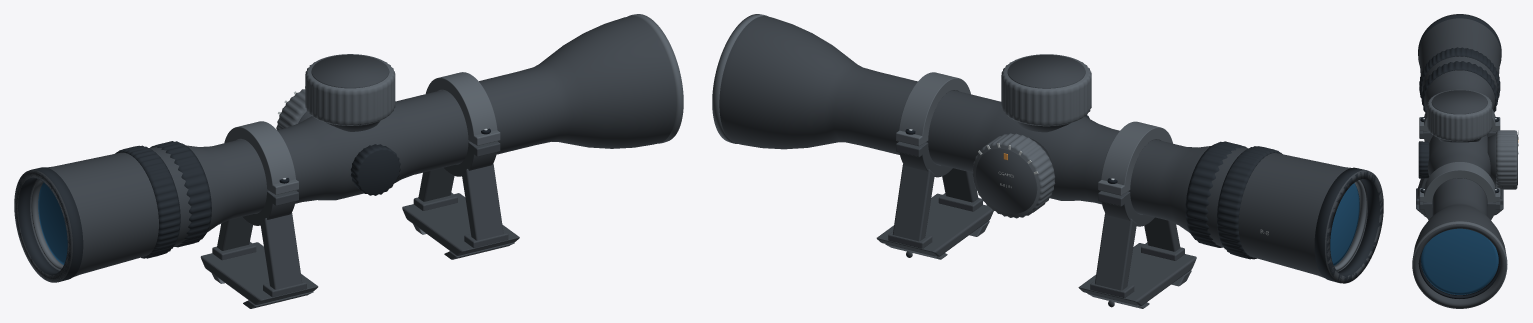
The model's file is R8_8x_Scope_A5_Rail.glb.
3 renders of one model, left to right at view 1: azimuth 30°, elevation 25°; view 2: azimuth 150°, elevation 25°; view 3: azimuth 270°, elevation 25°, orthographic. The views are drawn at different scales.
Visible parts, largest first — view 1: 01 SHELL | curved objective and long rear neck, 11 TOP CAP RIM, 05 REAR LIP | dark scallop, 25.0 LOCAL CROWN | independent seat, 25.1 LOCAL CROWN | independent seat, 09 REAR COLLAR B | fine grooves, 08 REAR COLLAR A | wide shallow grooves, 23.0.-1 SUPPORT ARM, 23.1.-1 SUPPORT ARM, 17.1 RING UPPER, 17.0 RING UPPER, 12 TOP CAP FACE (+9 smaller); view 2: 01 SHELL | curved objective and long rear neck, 11 TOP CAP RIM, 05 REAR LIP | dark scallop, 15 RIGHT CAP FACE, 25.1 LOCAL CROWN | independent seat, 25.0 LOCAL CROWN | independent seat, 09 REAR COLLAR B | fine grooves, 08 REAR COLLAR A | wide shallow grooves, 23.1.1 SUPPORT ARM, 23.0.1 SUPPORT ARM, 14 RIGHT CAP RIM, 17.1 RING UPPER (+9 smaller); view 3: 01 SHELL | curved objective and long rear neck, 04 FRONT PANE | deep blue coat, 11 TOP CAP RIM, 17.0 RING UPPER, 14 RIGHT CAP RIM, 12 TOP CAP FACE, 09 REAR COLLAR B | fine grooves, 08 REAR COLLAR A | wide shallow grooves, 02 FRONT LIP | fine rim, 03 FRONT INNER | matte rim, 05 REAR LIP | dark scallop, 16 LEFT SMALL CAP (+7 smaller).
Boxes of the visible parts, bbox=[...] form: 01 SHELL | curved objective and long rear neck: bbox=[14, 16, 676, 282]; 11 TOP CAP RIM: bbox=[305, 54, 395, 125]; 05 REAR LIP | dark scallop: bbox=[15, 167, 83, 282]; 25.0 LOCAL CROWN | independent seat: bbox=[402, 193, 519, 255]; 25.1 LOCAL CROWN | independent seat: bbox=[200, 242, 318, 304]; 09 REAR COLLAR B | fine grooves: bbox=[115, 145, 180, 258]; 08 REAR COLLAR A | wide shallow grooves: bbox=[150, 141, 211, 247]; 23.0.-1 SUPPORT ARM: bbox=[462, 163, 503, 240]; 23.1.-1 SUPPORT ARM: bbox=[260, 213, 302, 289]; 17.1 RING UPPER: bbox=[224, 121, 295, 193]; 17.0 RING UPPER: bbox=[425, 72, 497, 144]; 12 TOP CAP FACE: bbox=[311, 54, 389, 88]; 01 SHELL | curved objective and long rear neck: bbox=[719, 16, 1383, 283]; 11 TOP CAP RIM: bbox=[1001, 54, 1091, 126]; 05 REAR LIP | dark scallop: bbox=[1314, 167, 1383, 283]; 15 RIGHT CAP FACE: bbox=[976, 148, 1037, 213]; 25.1 LOCAL CROWN | independent seat: bbox=[1078, 243, 1196, 305]; 25.0 LOCAL CROWN | independent seat: bbox=[876, 193, 993, 256]; 09 REAR COLLAR B | fine grooves: bbox=[1217, 146, 1282, 259]; 08 REAR COLLAR A | wide shallow grooves: bbox=[1185, 141, 1247, 247]; 23.1.1 SUPPORT ARM: bbox=[1095, 213, 1136, 290]; 23.0.1 SUPPORT ARM: bbox=[892, 164, 934, 241]; 14 RIGHT CAP RIM: bbox=[972, 133, 1055, 218]; 17.1 RING UPPER: bbox=[1101, 121, 1172, 193]; 01 SHELL | curved objective and long rear neck: bbox=[1413, 14, 1506, 307]; 04 FRONT PANE | deep blue coat: bbox=[1421, 228, 1498, 294]; 11 TOP CAP RIM: bbox=[1427, 89, 1492, 141]; 17.0 RING UPPER: bbox=[1423, 162, 1495, 202]; 14 RIGHT CAP RIM: bbox=[1496, 130, 1517, 189]; 12 TOP CAP FACE: bbox=[1431, 90, 1487, 114]; 09 REAR COLLAR B | fine grooves: bbox=[1419, 47, 1500, 101]; 08 REAR COLLAR A | wide shallow grooves: bbox=[1422, 61, 1497, 112]; 02 FRONT LIP | fine rim: bbox=[1412, 221, 1507, 308]; 03 FRONT INNER | matte rim: bbox=[1418, 248, 1500, 298]; 05 REAR LIP | dark scallop: bbox=[1418, 14, 1501, 65]; 16 LEFT SMALL CAP: bbox=[1418, 141, 1429, 178].
Bounding box in the file's own units: 0.3872 × 0.1184 × 0.0813.
